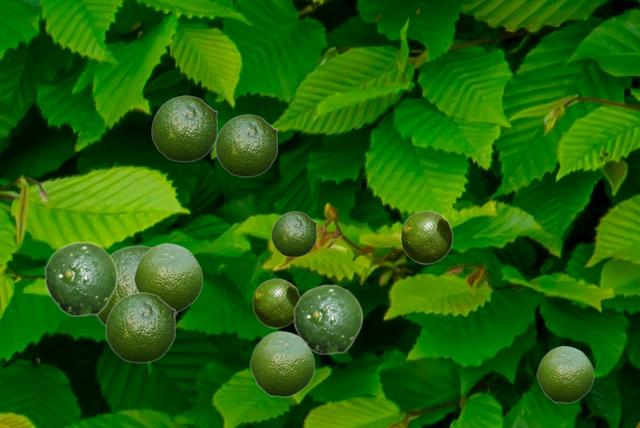calamansi: (96, 245, 178, 326), (44, 241, 117, 316), (105, 292, 175, 362), (133, 242, 202, 312), (293, 284, 362, 354), (151, 95, 217, 161), (249, 330, 314, 396), (215, 114, 277, 176), (536, 345, 593, 402), (400, 210, 452, 263), (252, 278, 300, 327), (271, 211, 316, 256)
